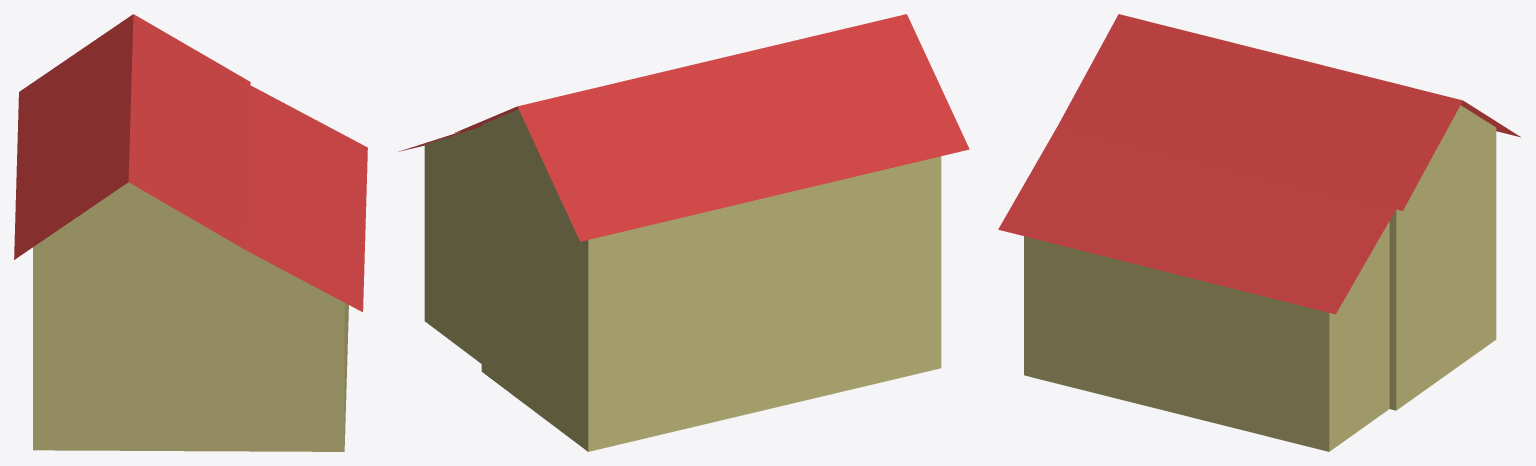
3 renders of one model, left to right at view 1: azimuth 30°, elevation 25°; view 2: azimuth 150°, elevation 25°; view 3: azimuth 270°, elevation 25°, orthographic. The views are drawn at different scales.
Bounding box in the file's own units: 13.38 × 13.95 × 8.18.
